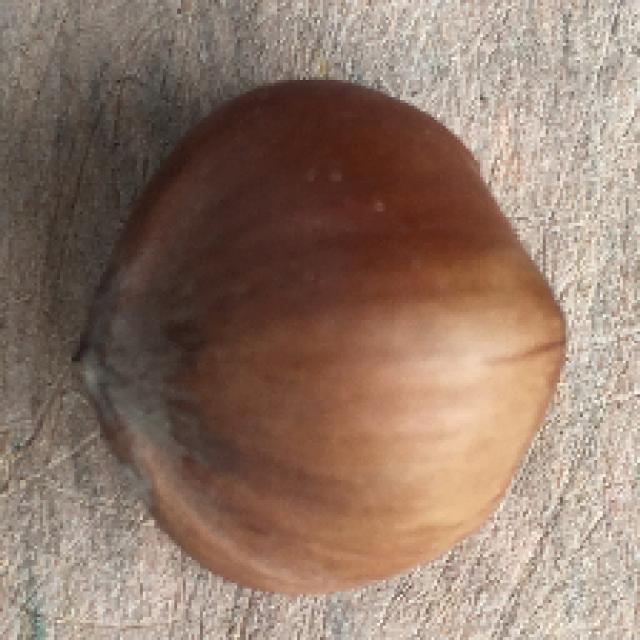damagedHazelnut: (72, 79, 580, 612)
